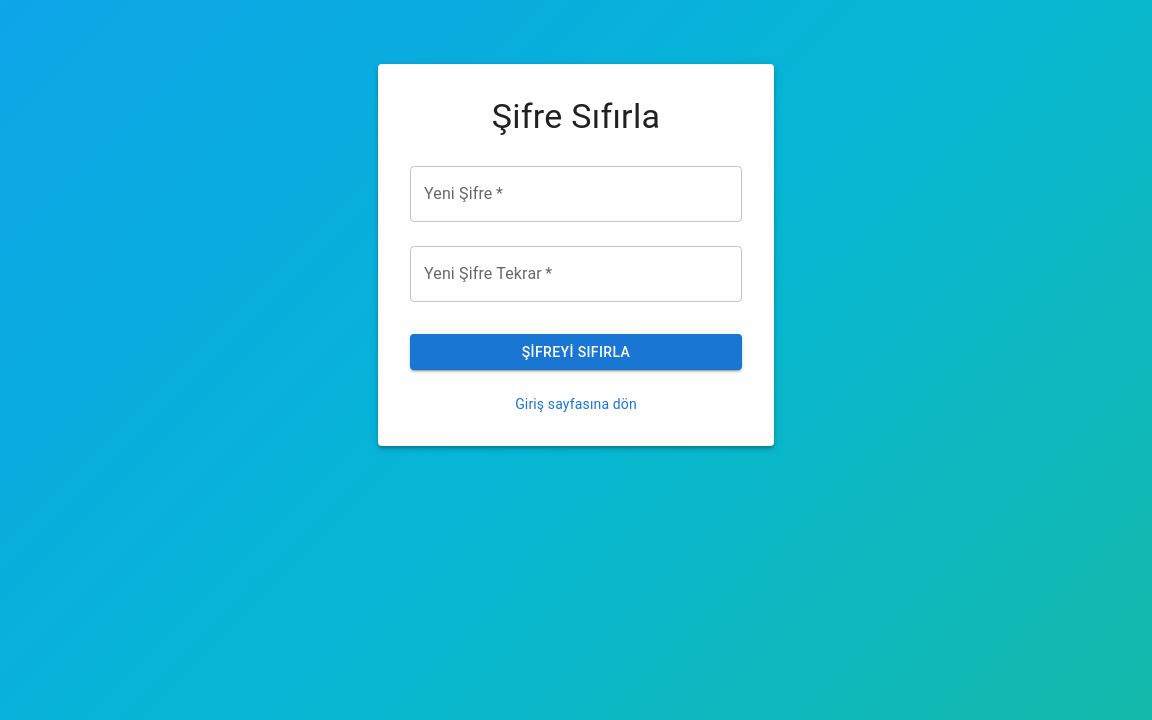
Test: ResetPassword Component › should show error when passwords do not match
Type "password1" into the password field labelled "Yeni Şifre *".
click(576, 194); type("password1")  # box [410, 166, 742, 222]
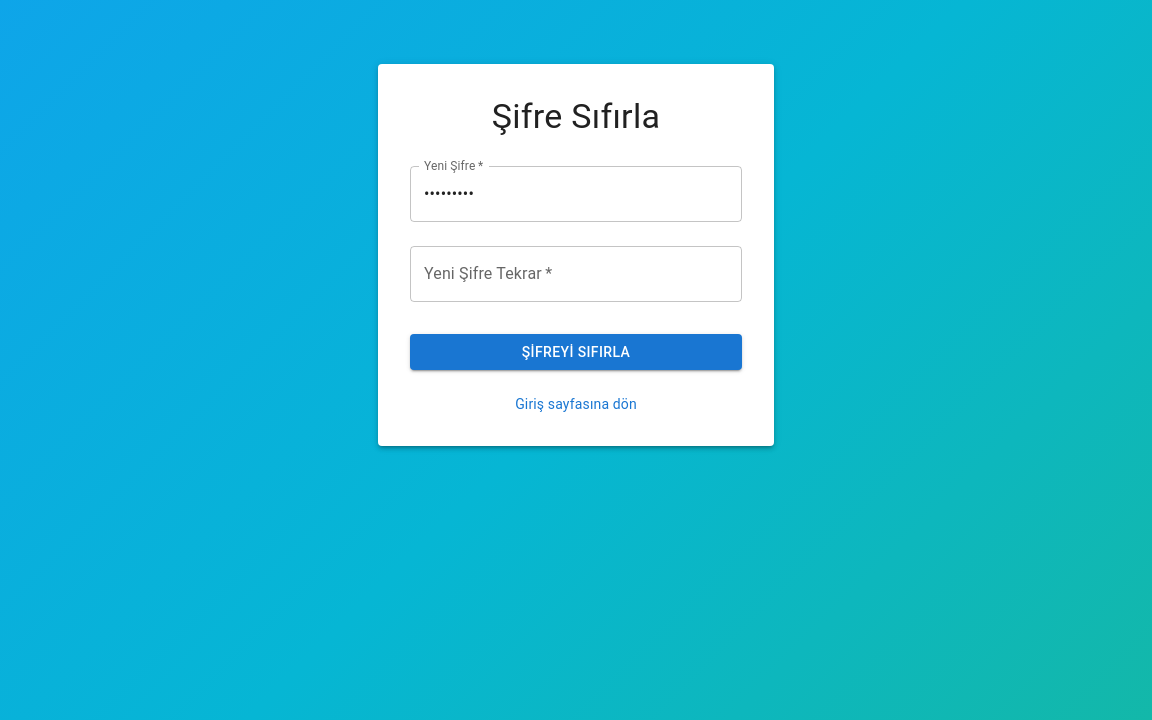
Type "password2" into the password field with id "confirmPassword".
click(576, 274); type("password2")  # box [410, 246, 742, 302]
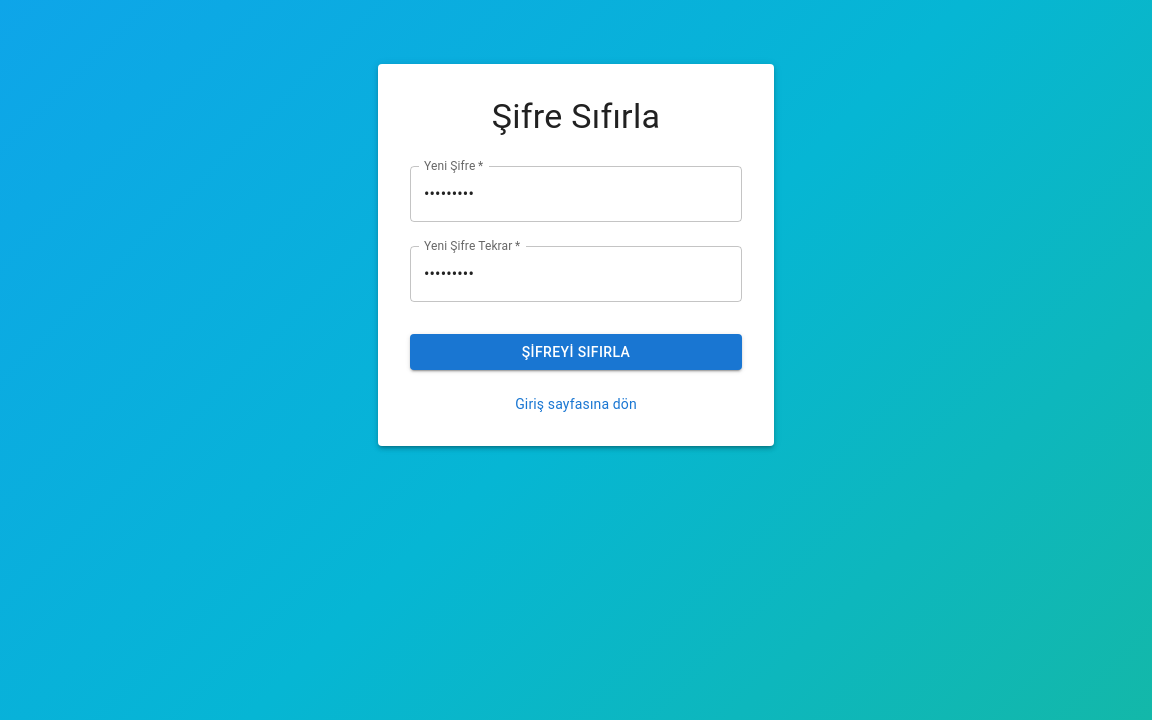
Click the button "Şifreyi Sıfırla".
click(576, 352)  # box [410, 334, 742, 370]
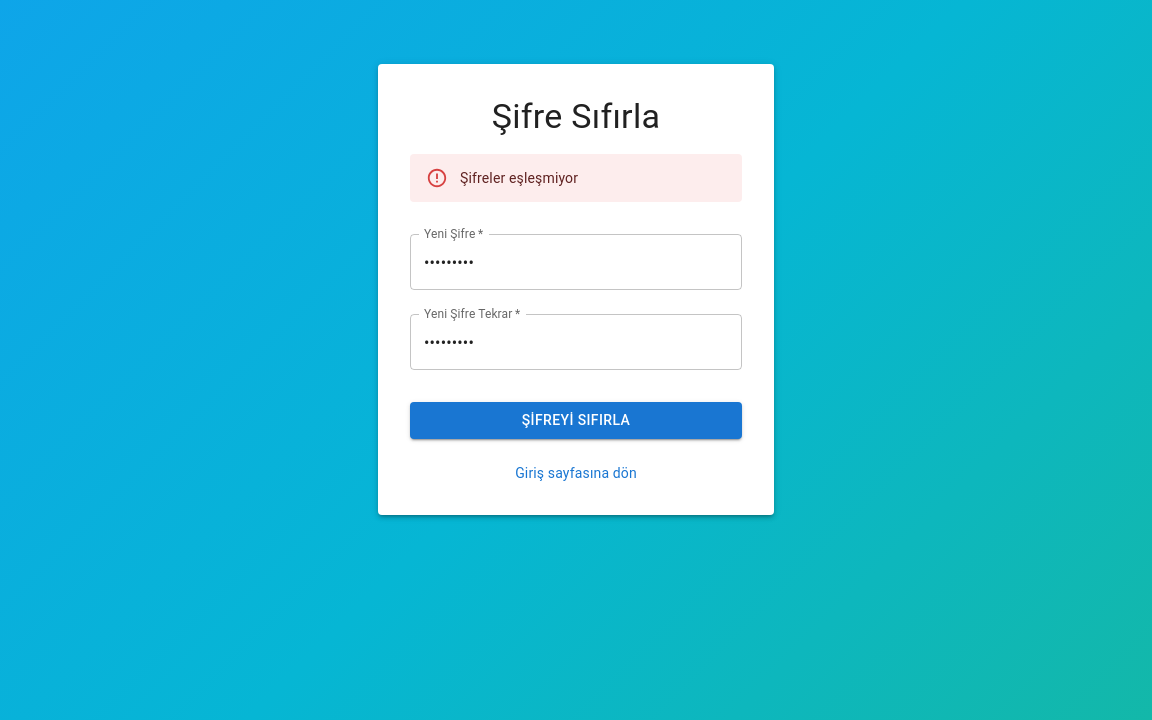
expect the text "Şifreler eşleşmiyor" is shown: met, box [460, 170, 578, 186]
